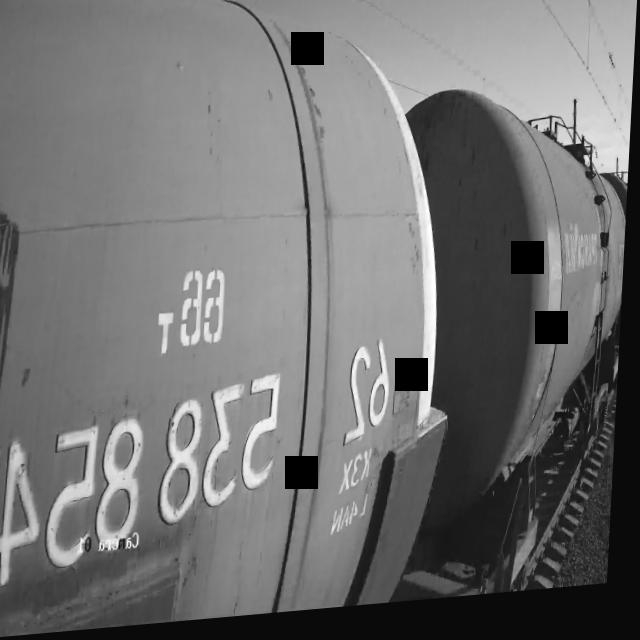tank: (0, 0, 474, 640), (392, 79, 635, 610)
